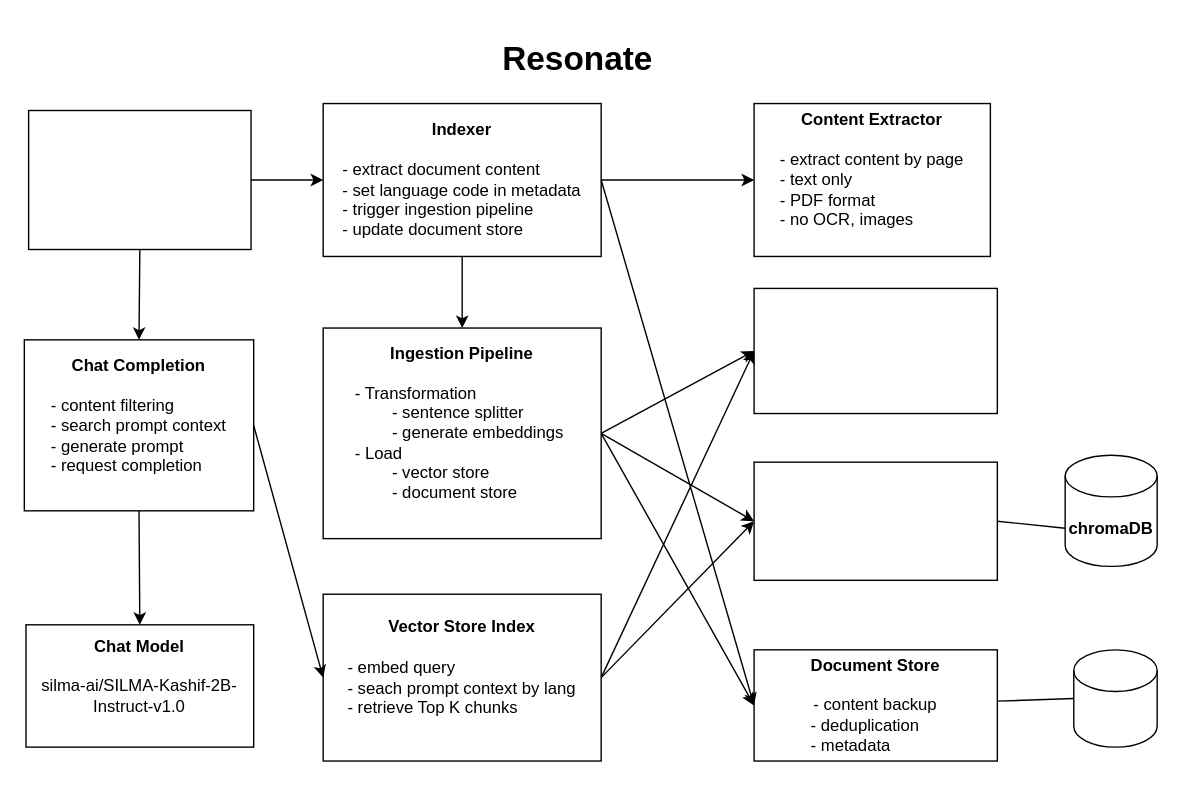
The diagram is 1182 pixels wide and 785 high, and some of its shapes have lost their labels. Here are the shapes that lost their labels. From the top down, the box of each, then its label:
(27, 109, 251, 250): Resonate UI - upload, index documents - chatbot assistant
(753, 287, 997, 414): Arabic Embedding Model AraGemma-Embedding-300m
(753, 461, 997, 580): Vector Store - embedding vectors - document chunks - metadata
(1072, 648, 1157, 747): JSON
